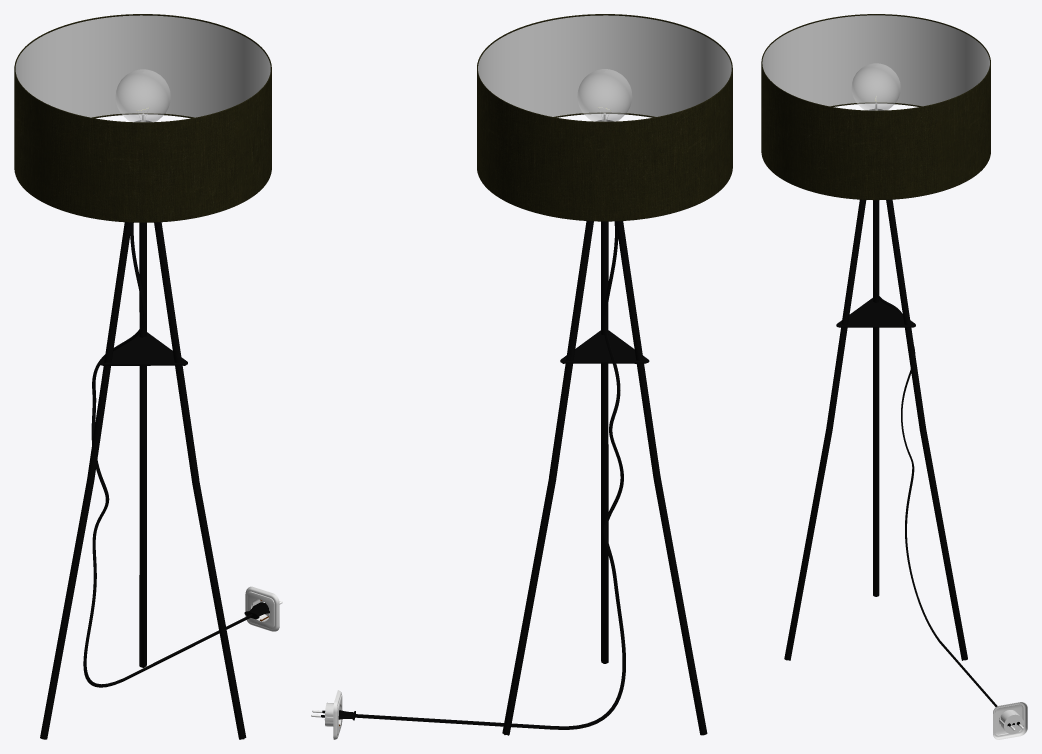
The model's file is floor_lamp_drum.glb.
3 views of the same model, side by side, from view 1: azimuth 30°, elevation 25°; view 2: azimuth 150°, elevation 25°; view 3: azimuth 270°, elevation 25° (orthographic). The views are drawn at different scales.
Parts seen in each view (by area): view 1: Object_5, Object_4, Object_12, Object_22, Object_16, Object_6; view 2: Object_5, Object_4, Object_12, Object_16, Object_22; view 3: Object_5, Object_4, Object_12, Object_22, Object_16, Object_6.
Boxes of the visible parts, box(x1,y1,x2,y2) form: Object_5: box(14, 14, 271, 222); Object_4: box(15, 15, 270, 117); Object_12: box(40, 222, 246, 739); Object_22: box(115, 69, 170, 122); Object_16: box(83, 222, 252, 687); Object_6: box(143, 113, 279, 631); Object_5: box(477, 14, 732, 221); Object_4: box(478, 15, 731, 116); Object_12: box(502, 221, 707, 735); Object_16: box(355, 221, 625, 729); Object_22: box(577, 69, 632, 121); Object_5: box(761, 14, 990, 200); Object_4: box(762, 15, 989, 106); Object_12: box(784, 199, 967, 660); Object_22: box(851, 63, 900, 110); Object_16: box(873, 200, 997, 706); Object_6: box(875, 105, 1027, 739).
Bounding box in the file's own units: 0.8532 × 1.65 × 0.6723.
11 materials, 1 textured.
